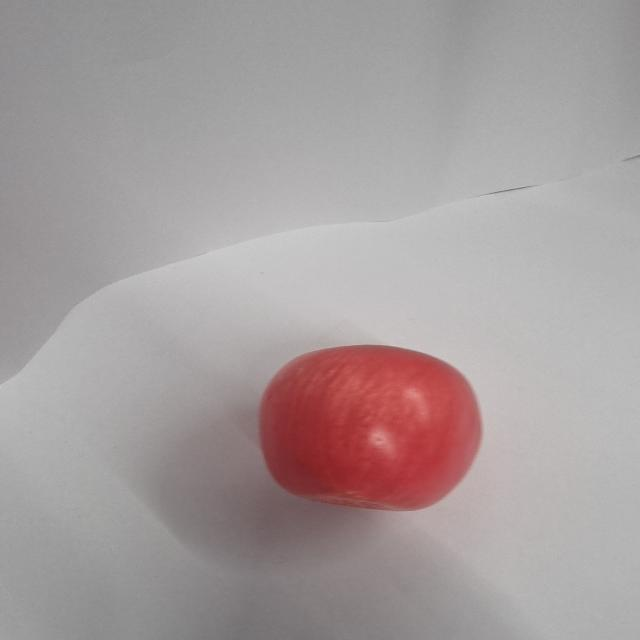apple: (262, 346, 482, 512)
